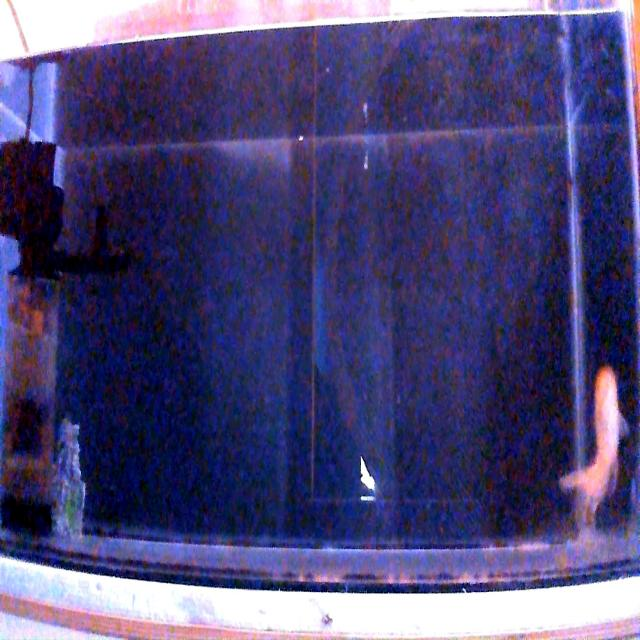fish: (556, 362, 628, 530)
